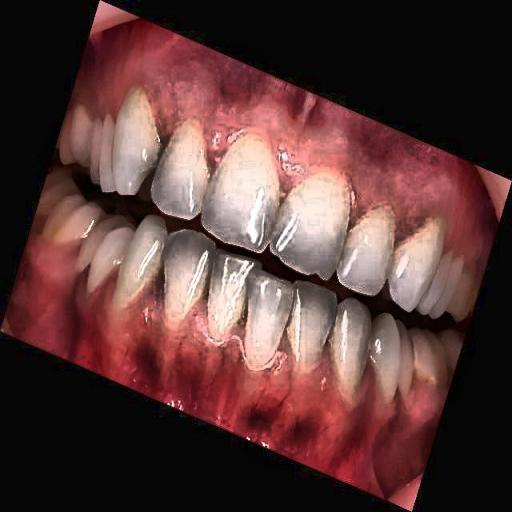Healthy: (70, 70, 444, 392)
